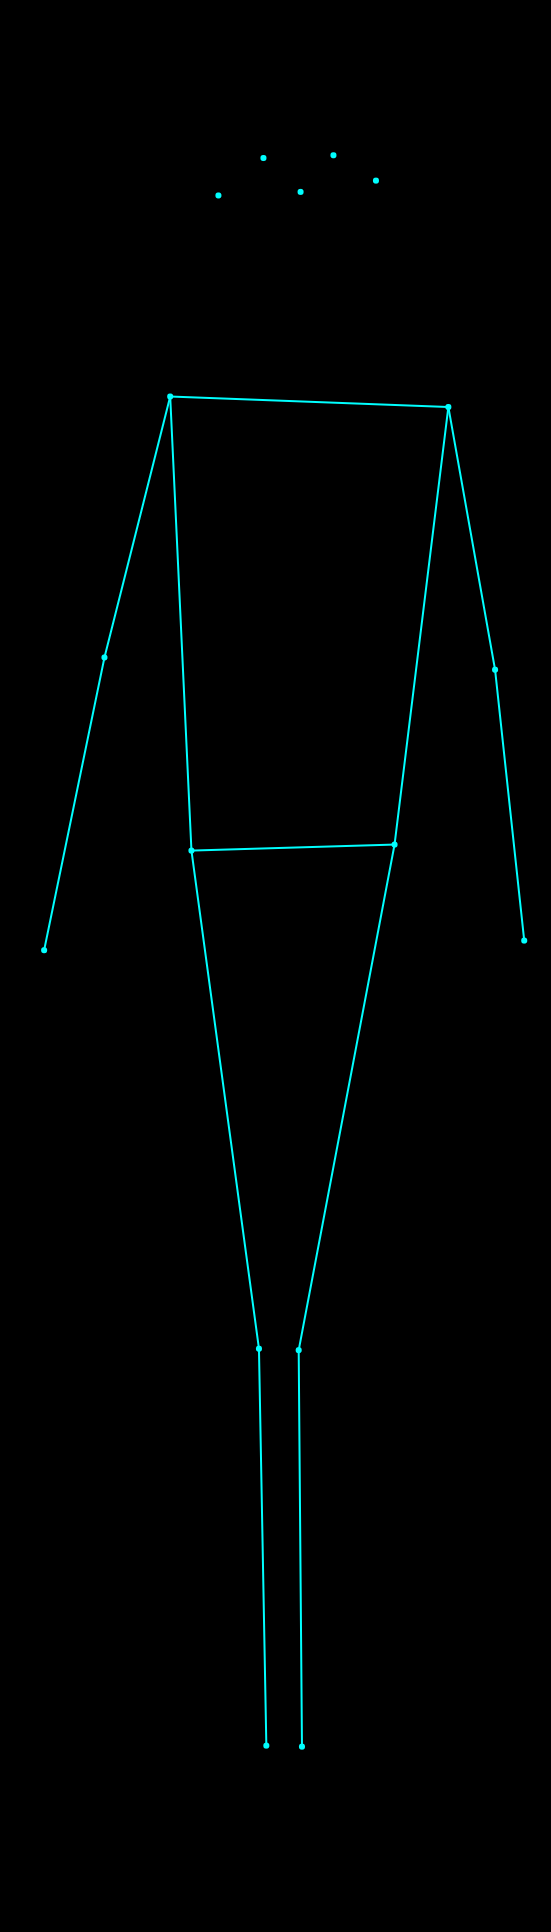mountain: (26, 120, 535, 1759)
